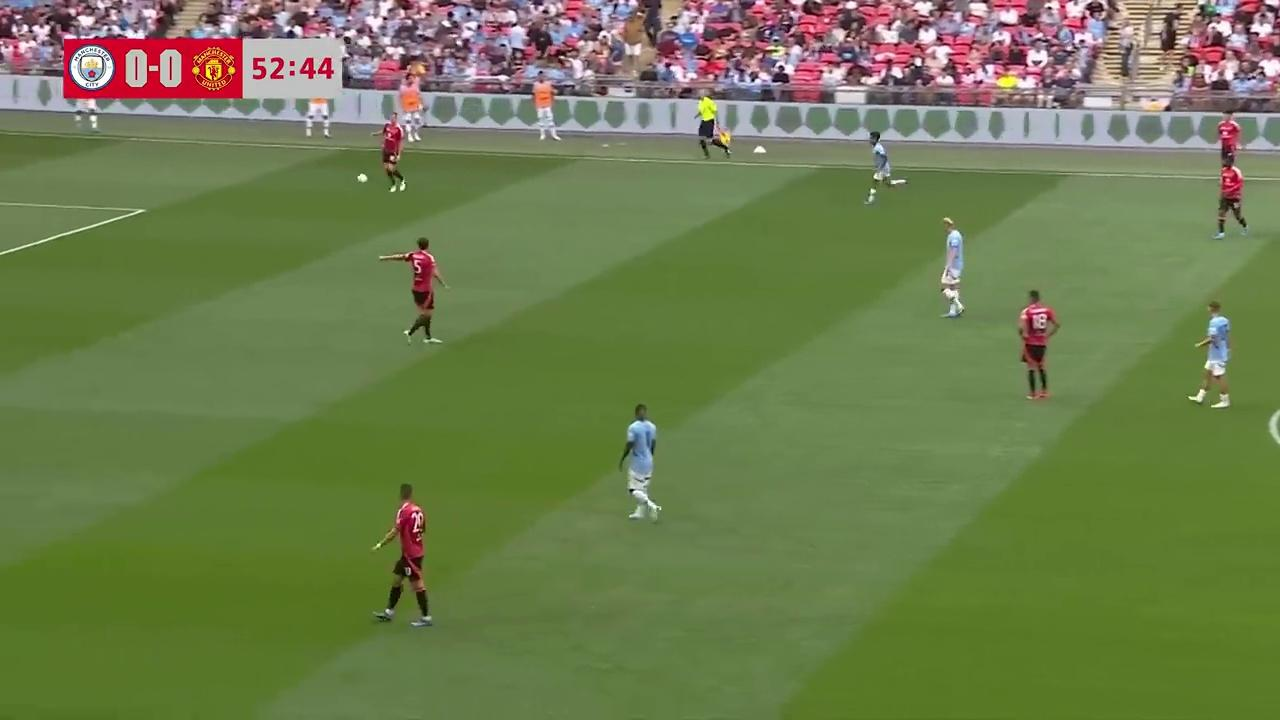ball: (354, 168, 370, 185)
player: (368, 483, 434, 627), (381, 236, 448, 346), (618, 403, 661, 522), (1017, 288, 1059, 401), (1190, 301, 1233, 409), (865, 132, 905, 204), (1214, 158, 1248, 239), (939, 217, 964, 317), (377, 114, 406, 192), (1268, 403, 1280, 458)
referee: (696, 92, 732, 160)
